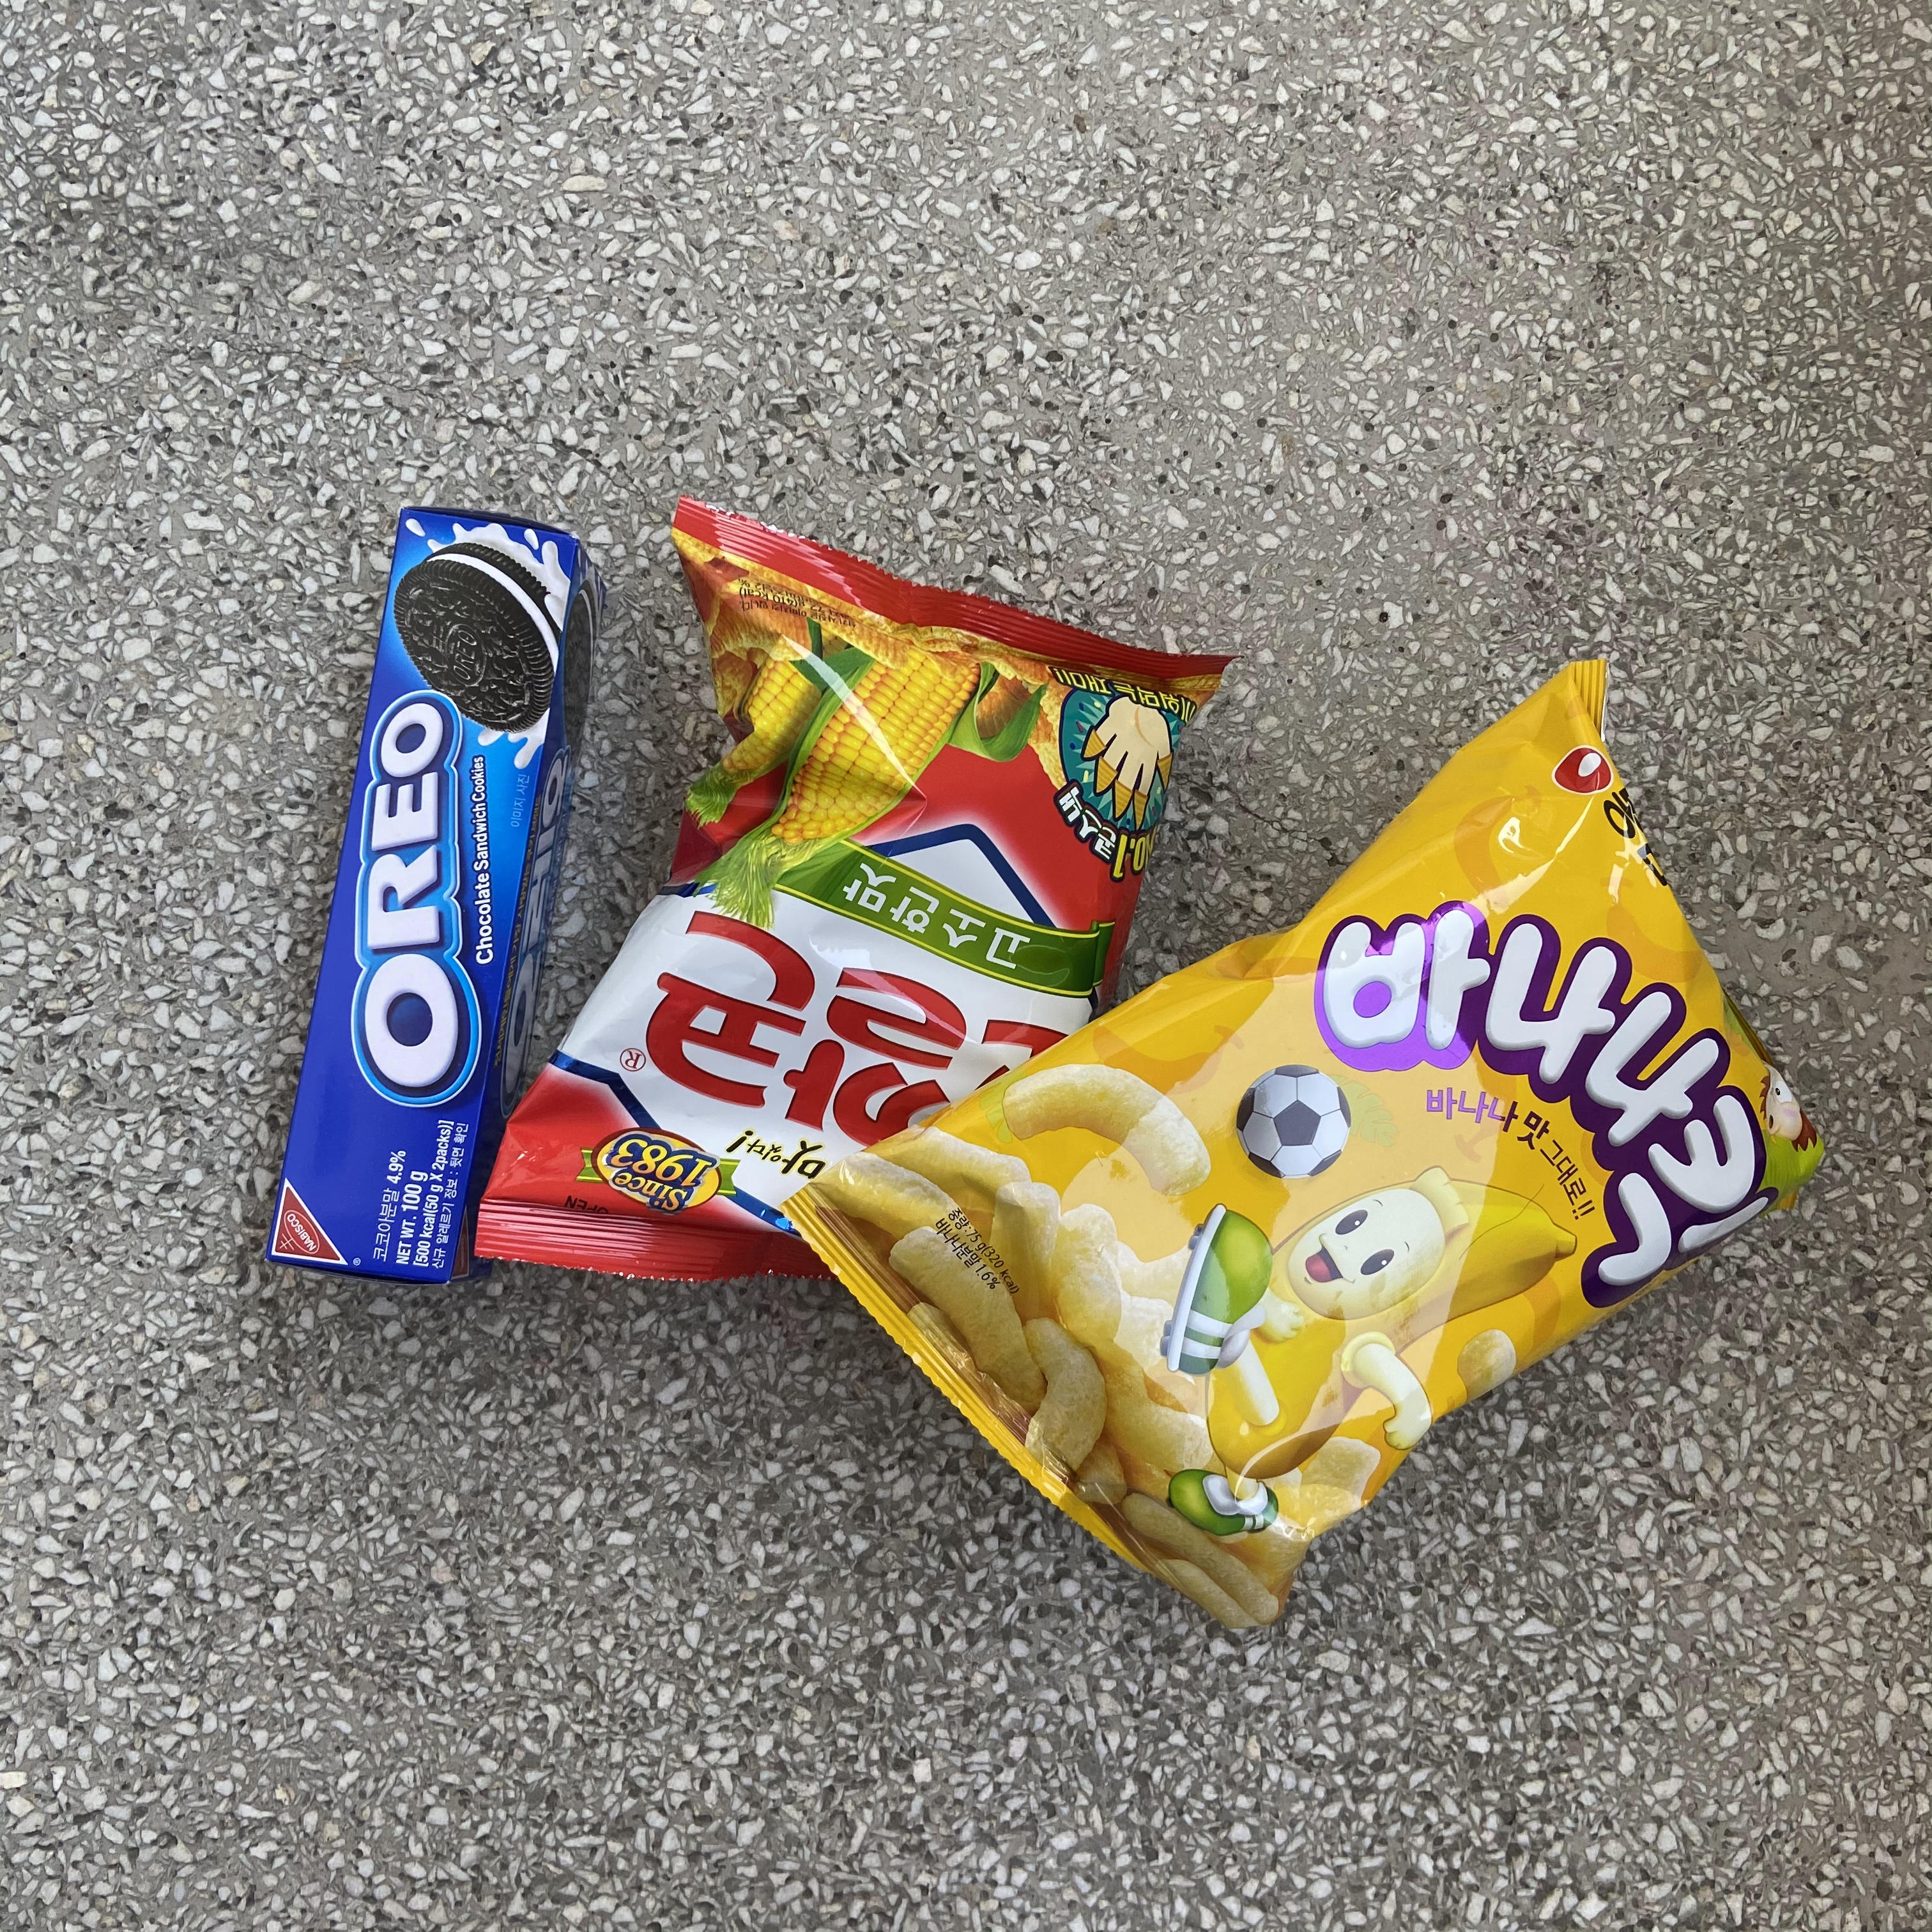banana: (780, 653, 1840, 1640)
ggoggalcon: (464, 485, 1242, 1300)
oreo: (246, 495, 616, 1297)
